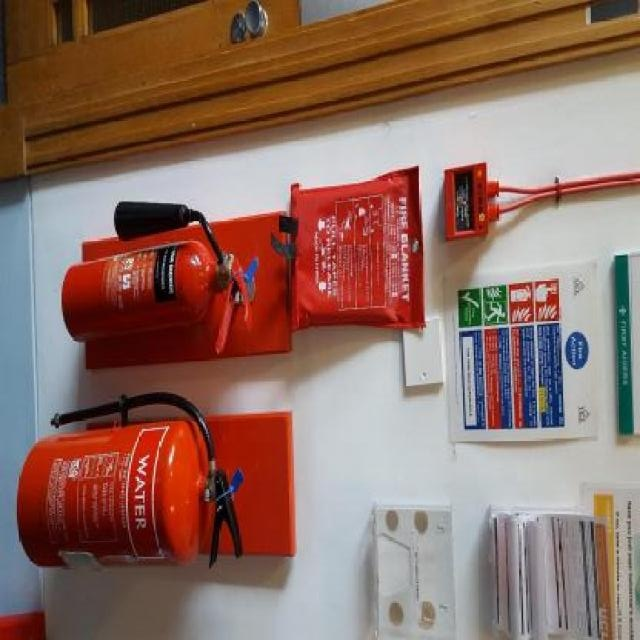fire extinguisher: (15, 393, 240, 572), (61, 204, 250, 353)
